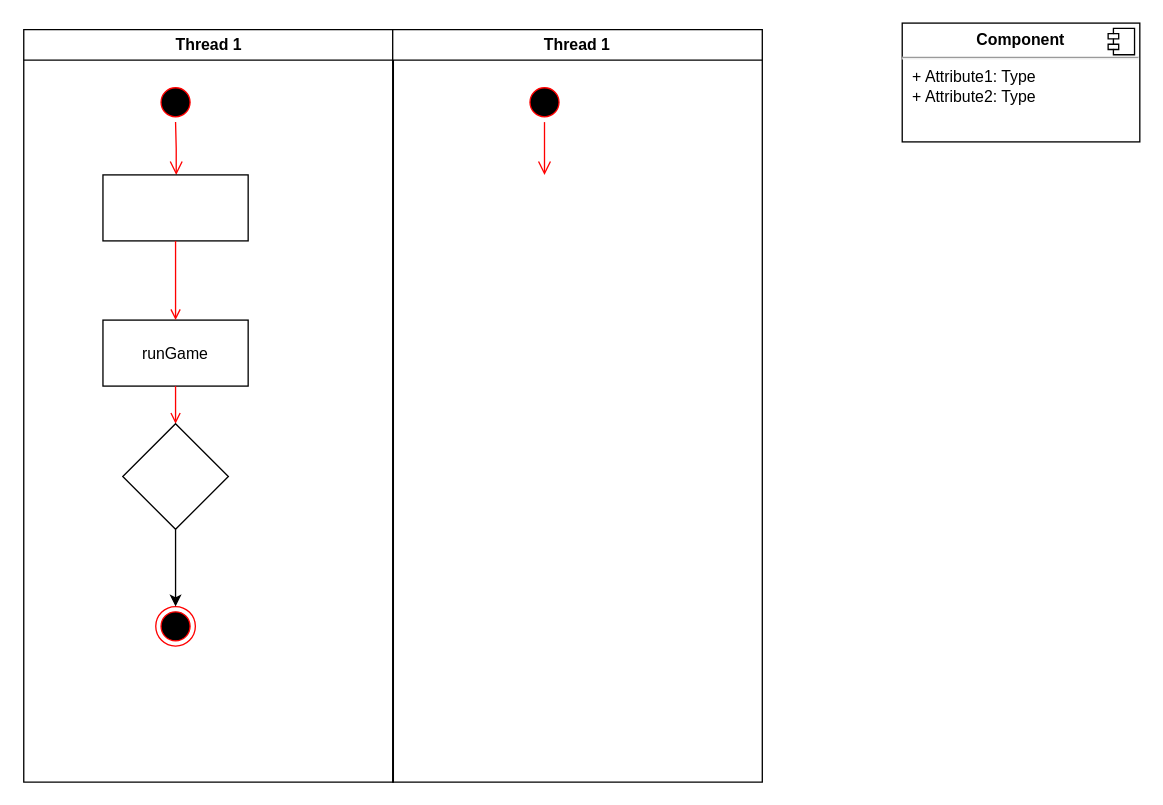
Image size: 1163x805. Some labels were removed from this diagram. Each missing label, with the centre of its shape:
"createAI" belongs at (x=175, y=207).
"end game?" belongs at (x=174, y=475).
